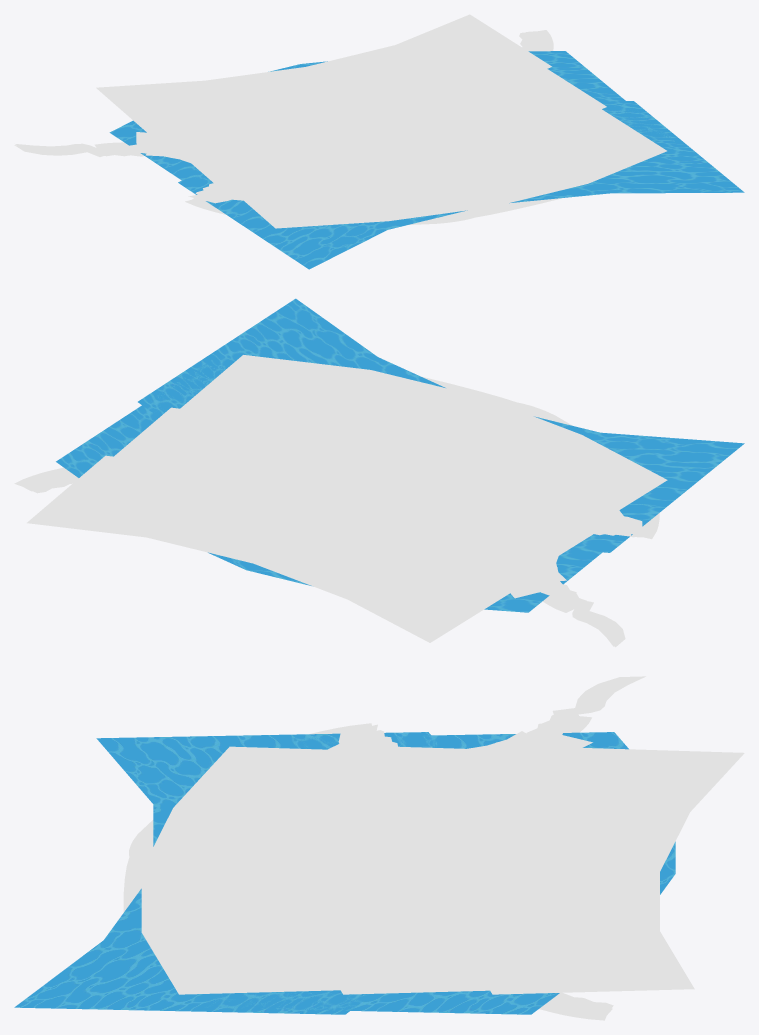
Rendered from BeachWaterVFX.fbx.
3 views of the same model, one above another, from view 1: azimuth 30°, elevation 25°; view 2: azimuth 150°, elevation 25°; view 3: azimuth 270°, elevation 25° (orthographic). The views are drawn at different scales.
Visible parts, largest first — view 1: vfx_mesh_water_beach_01 (8), vfx_mesh_water_beach_01 (6), vfx_mesh_water_beach_01 (7), vfx_mesh_water_beach_01 (11), vfx_mesh_wave_00, vfx_mesh_water_beach_01 (12), vfx_mesh_water_beach_01 (10), vfx_mesh_water_beach_01 (9), vfx_mesh_water_beach_01 (15), vfx_mesh_water_beach_01 (16), vfx_mesh_water_beach_03 (1), vfx_mesh_water_beach_01; view 2: vfx_mesh_water_beach_01 (6), vfx_mesh_water_beach_01 (8), vfx_mesh_water_beach_01 (7), vfx_mesh_water_beach_01 (11), vfx_mesh_water_beach_01 (12), vfx_mesh_wave_00, vfx_mesh_water_beach_01 (9), vfx_mesh_water_beach_01 (10), vfx_mesh_water_beach_01 (15), vfx_mesh_water_beach_01 (16), vfx_mesh_water_beach_03 (1), vfx_mesh_water_beach_02 (8); view 3: vfx_mesh_water_beach_01 (6), vfx_mesh_water_beach_01 (8), vfx_mesh_water_beach_01 (7), vfx_mesh_water_beach_01 (11), vfx_mesh_water_beach_01 (12), vfx_mesh_wave_00, vfx_mesh_water_beach_01 (10), vfx_mesh_water_beach_03 (1), vfx_mesh_water_beach_01 (16), vfx_mesh_water_beach_01 (9), vfx_mesh_water_beach_02 (8), vfx_mesh_water_beach_02 (+1 smaller).
Boxes of the visible parts, x1=… form: vfx_mesh_water_beach_01 (8): x1=96, y1=14, x2=551, y2=139; vfx_mesh_water_beach_01 (6): x1=244, y1=99, x2=666, y2=228; vfx_mesh_water_beach_01 (7): x1=151, y1=54, x2=606, y2=182; vfx_mesh_water_beach_01 (11): x1=178, y1=101, x2=744, y2=269; vfx_mesh_wave_00: x1=136, y1=132, x2=268, y2=202; vfx_mesh_water_beach_01 (12): x1=109, y1=51, x2=675, y2=183; vfx_mesh_water_beach_01 (10): x1=299, y1=121, x2=574, y2=186; vfx_mesh_water_beach_01 (9): x1=261, y1=82, x2=530, y2=149; vfx_mesh_water_beach_01 (15): x1=416, y1=77, x2=558, y2=132; vfx_mesh_water_beach_01 (16): x1=295, y1=172, x2=422, y2=192; vfx_mesh_water_beach_03 (1): x1=15, y1=143, x2=146, y2=155; vfx_mesh_water_beach_01: x1=462, y1=199, x2=553, y2=218; vfx_mesh_water_beach_01 (6): x1=164, y1=355, x2=667, y2=523; vfx_mesh_water_beach_01 (8): x1=27, y1=455, x2=509, y2=642; vfx_mesh_water_beach_01 (7): x1=96, y1=407, x2=593, y2=594; vfx_mesh_water_beach_01 (11): x1=138, y1=298, x2=744, y2=552; vfx_mesh_water_beach_01 (12): x1=56, y1=358, x2=662, y2=612; vfx_mesh_wave_00: x1=497, y1=500, x2=627, y2=598; vfx_mesh_water_beach_01 (9): x1=160, y1=449, x2=477, y2=533; vfx_mesh_water_beach_01 (10): x1=227, y1=410, x2=544, y2=503; vfx_mesh_water_beach_01 (15): x1=137, y1=443, x2=339, y2=480; vfx_mesh_water_beach_01 (16): x1=446, y1=442, x2=568, y2=498; vfx_mesh_water_beach_03 (1): x1=541, y1=534, x2=632, y2=646; vfx_mesh_water_beach_02 (8): x1=14, y1=467, x2=78, y2=493; vfx_mesh_water_beach_01 (6): x1=141, y1=746, x2=407, y2=994; vfx_mesh_water_beach_01 (8): x1=477, y1=748, x2=744, y2=994; vfx_mesh_water_beach_01 (7): x1=322, y1=746, x2=594, y2=994; vfx_mesh_water_beach_01 (11): x1=14, y1=732, x2=441, y2=1014; vfx_mesh_water_beach_01 (12): x1=203, y1=732, x2=675, y2=1014; vfx_mesh_wave_00: x1=309, y1=729, x2=592, y2=778; vfx_mesh_water_beach_01 (10): x1=300, y1=792, x2=363, y2=965; vfx_mesh_water_beach_03 (1): x1=538, y1=676, x2=645, y2=734; vfx_mesh_water_beach_01 (16): x1=258, y1=782, x2=340, y2=854; vfx_mesh_water_beach_01 (9): x1=433, y1=798, x2=502, y2=966; vfx_mesh_water_beach_02 (8): x1=539, y1=992, x2=613, y2=1020; vfx_mesh_water_beach_02: x1=123, y1=848, x2=146, y2=912.
Bounding box in the file's own units: 57.81 × 0.2355 × 51.95.
